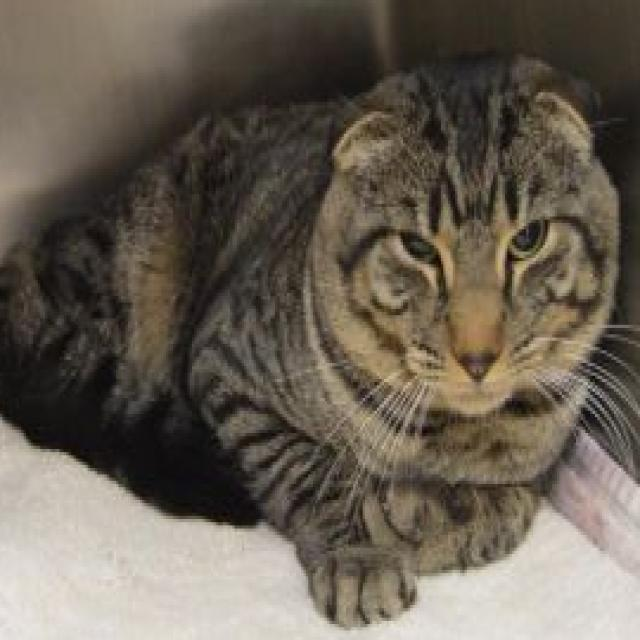Scottish Fold: (0, 47, 623, 633)
